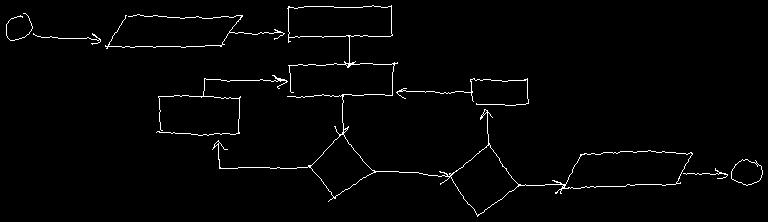arrow: (212, 140, 309, 168), (201, 75, 287, 97), (373, 170, 449, 184), (396, 88, 472, 98), (33, 33, 100, 44), (519, 180, 564, 193), (229, 29, 284, 39), (334, 95, 348, 134), (683, 168, 727, 178), (480, 109, 492, 145), (344, 35, 355, 67)
connection: (731, 159, 762, 185), (6, 13, 32, 40)
data: (560, 150, 692, 193), (105, 14, 242, 48)
decision: (449, 143, 519, 216), (308, 132, 375, 201)
process: (287, 5, 392, 42), (287, 62, 397, 97), (156, 95, 240, 135), (470, 78, 528, 105)
